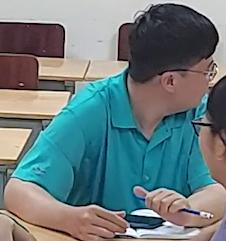Turning_Around: (9, 4, 226, 236)
